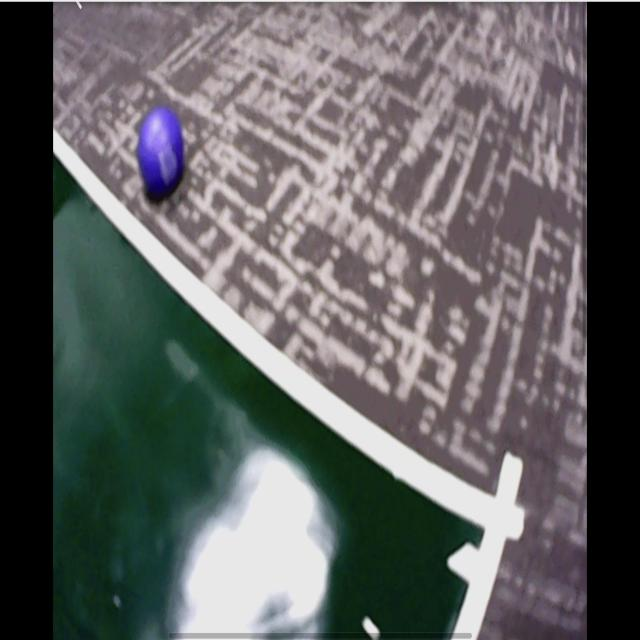ball: (138, 104, 186, 195)
